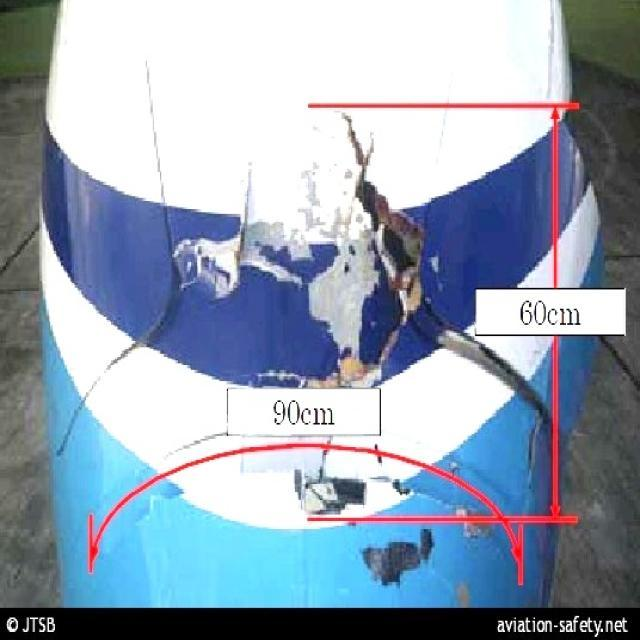crack: (338, 108, 553, 476), (227, 160, 261, 299)
